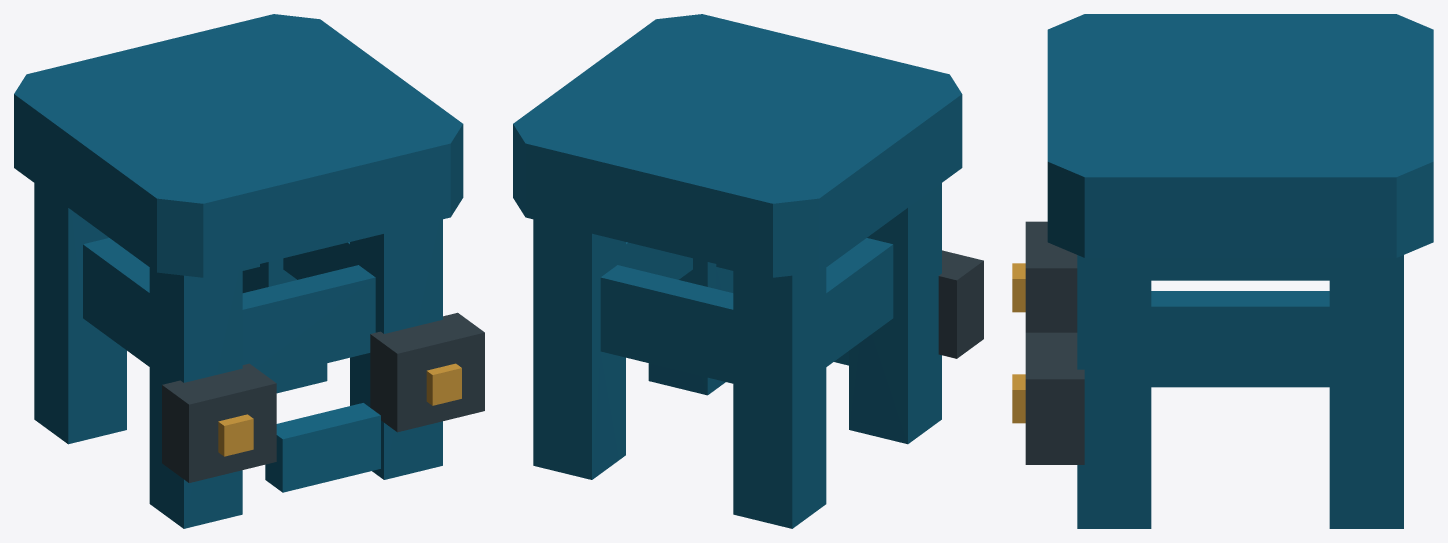
File: market-stool-sky.glb
3 views of the same model, side by side, from view 1: azimuth 30°, elevation 25°; view 2: azimuth 150°, elevation 25°; view 3: azimuth 270°, elevation 25° (orthographic). The views are drawn at different scales.
Parts seen in each view (by area): view 1: market-stool-sky; view 2: market-stool-sky; view 3: market-stool-sky.
Boxes of the visible parts, x1,y1,x2,y2 form: market-stool-sky: (14,14,484,528); market-stool-sky: (513,14,983,528); market-stool-sky: (1012,14,1433,528).
Bounding box in the file's own units: 0.49 × 0.51 × 0.5347.
